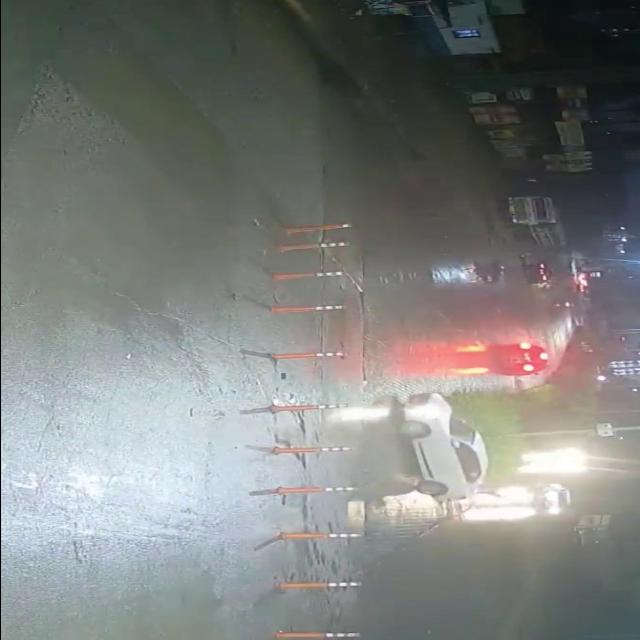accident: (448, 253, 520, 291)
